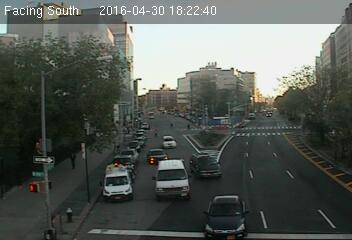neg: (262, 110, 273, 124), (208, 95, 215, 105), (148, 155, 154, 163), (214, 139, 220, 147), (205, 117, 210, 125), (223, 124, 228, 131), (105, 123, 110, 130), (160, 109, 164, 115)
pos: (66, 153, 79, 169), (152, 127, 160, 138), (169, 122, 175, 130), (187, 123, 192, 130)
